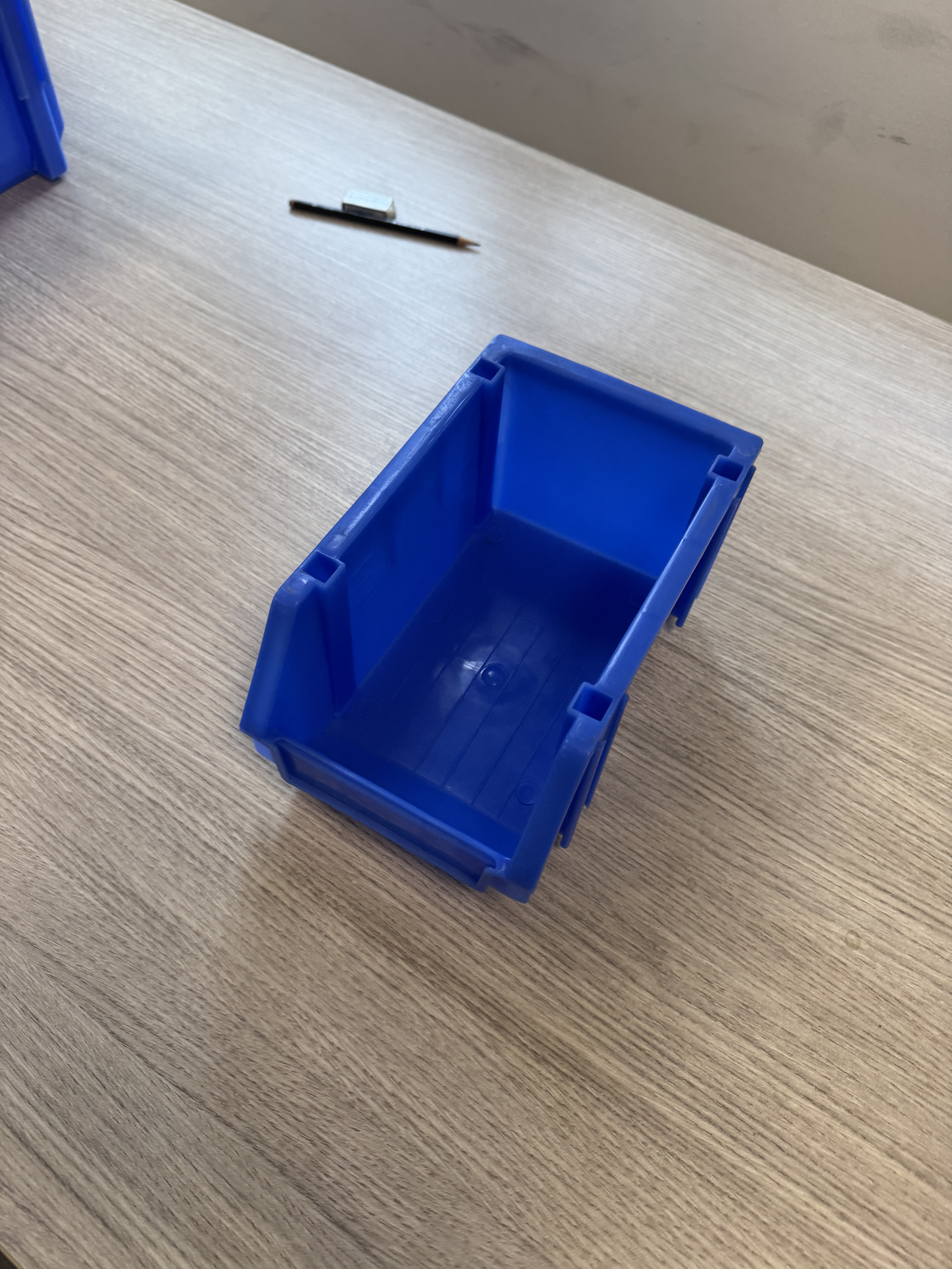Bin Boundary: (243, 295, 737, 855)
